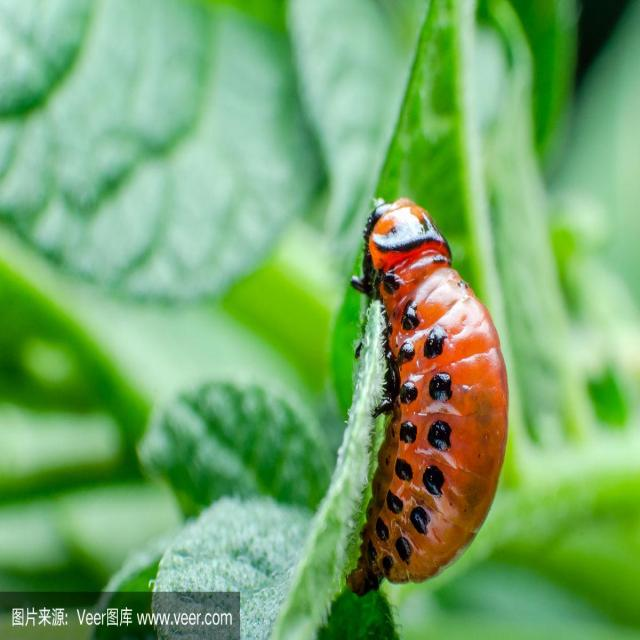ShuCaiHuaBanChong-Larva-: (343, 187, 513, 589)
